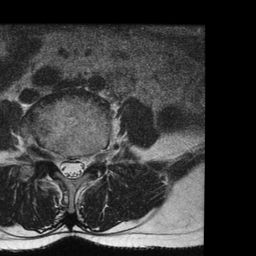CCS_normal: (67, 149, 76, 184)
LFS_normal: (86, 144, 97, 172)
LLS_normal: (76, 148, 86, 179)
RFS_normal: (46, 141, 57, 171)
RLS_normal: (58, 147, 66, 179)
